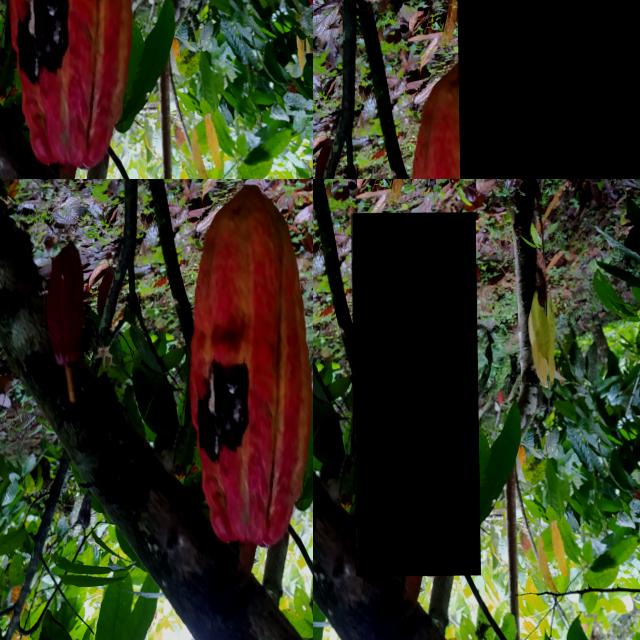Fitoftora: (351, 213, 479, 577), (259, 213, 313, 454)
Sana: (457, 0, 640, 179), (114, 179, 203, 395)
